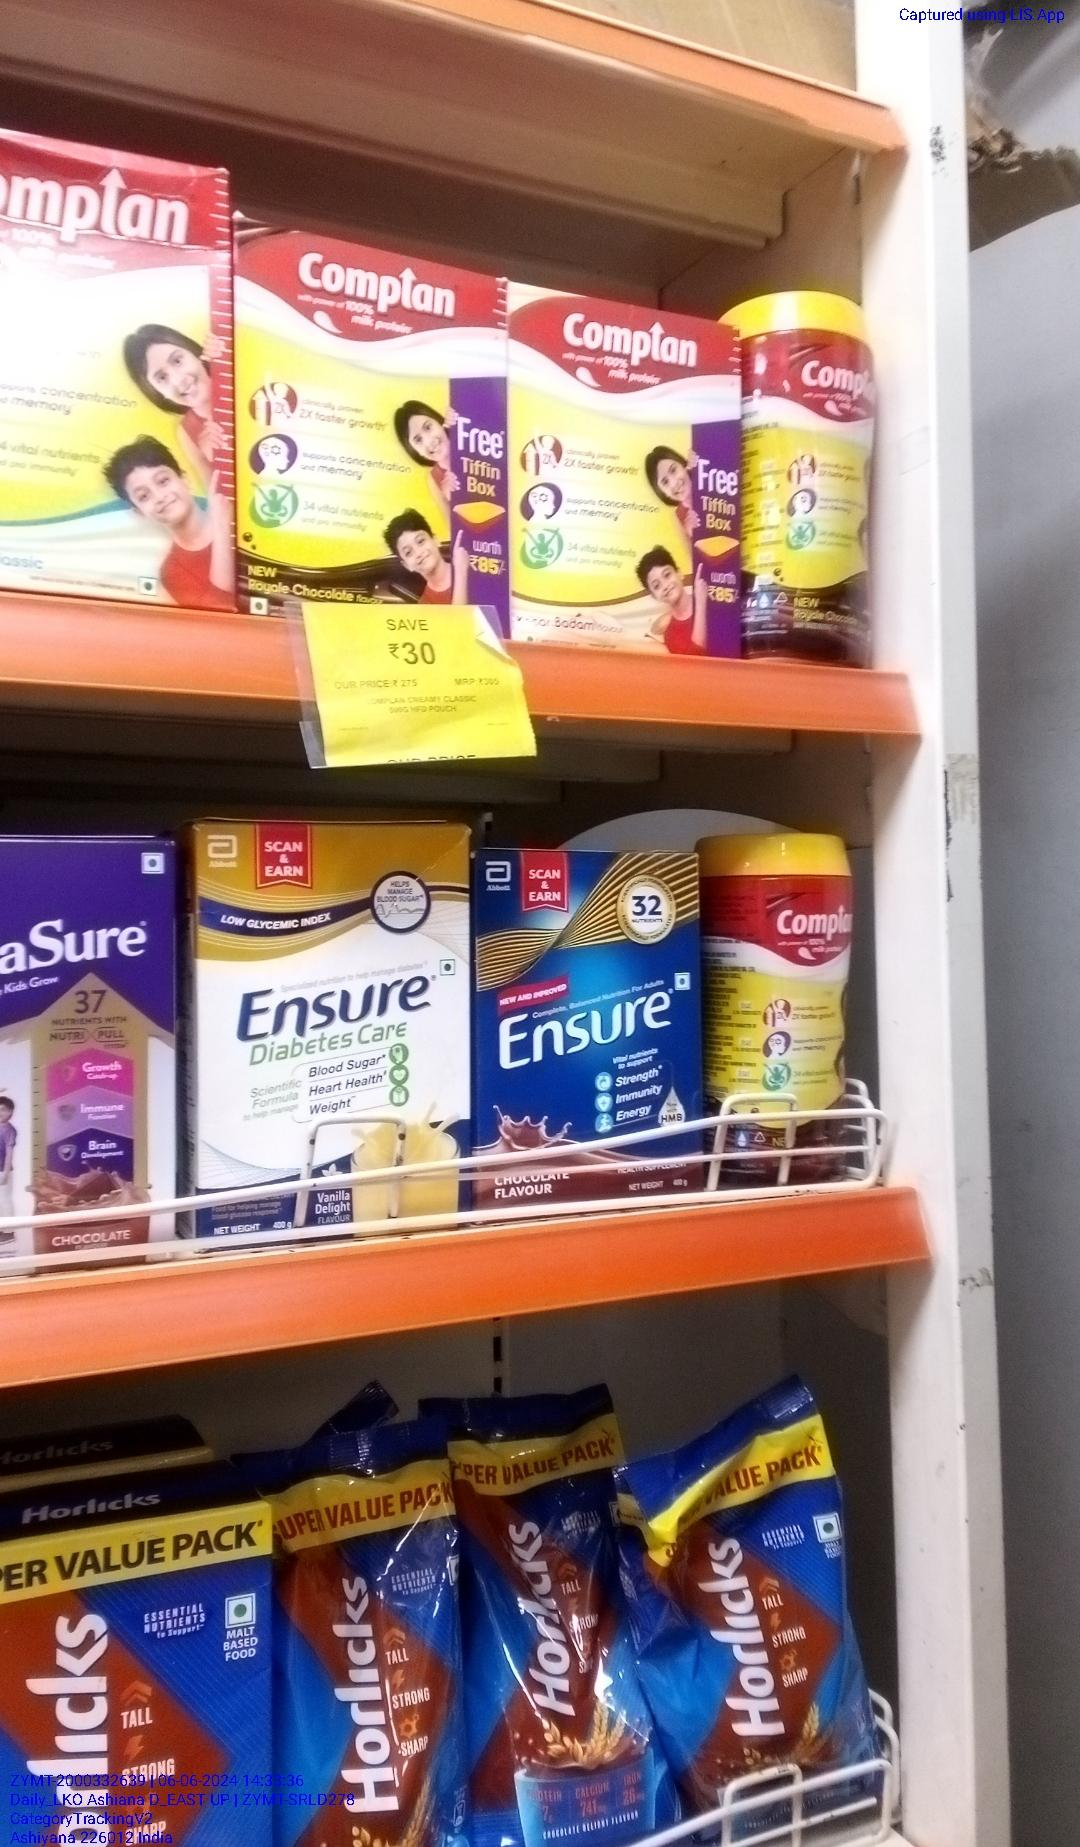COMPLAN_CHOCOLATE_200_GMS_PACK: (240, 225, 510, 645)
COMPLAN_CHOCOLATE_500_GMS_JAR: (743, 294, 883, 668), (708, 826, 849, 1191)
COMPLAN_CREAMY_CLASSIC_500_G_PACK: (0, 126, 231, 603)
COMPLAN_KESAR_BADAM_200_GMS_PACK: (519, 278, 732, 668)
